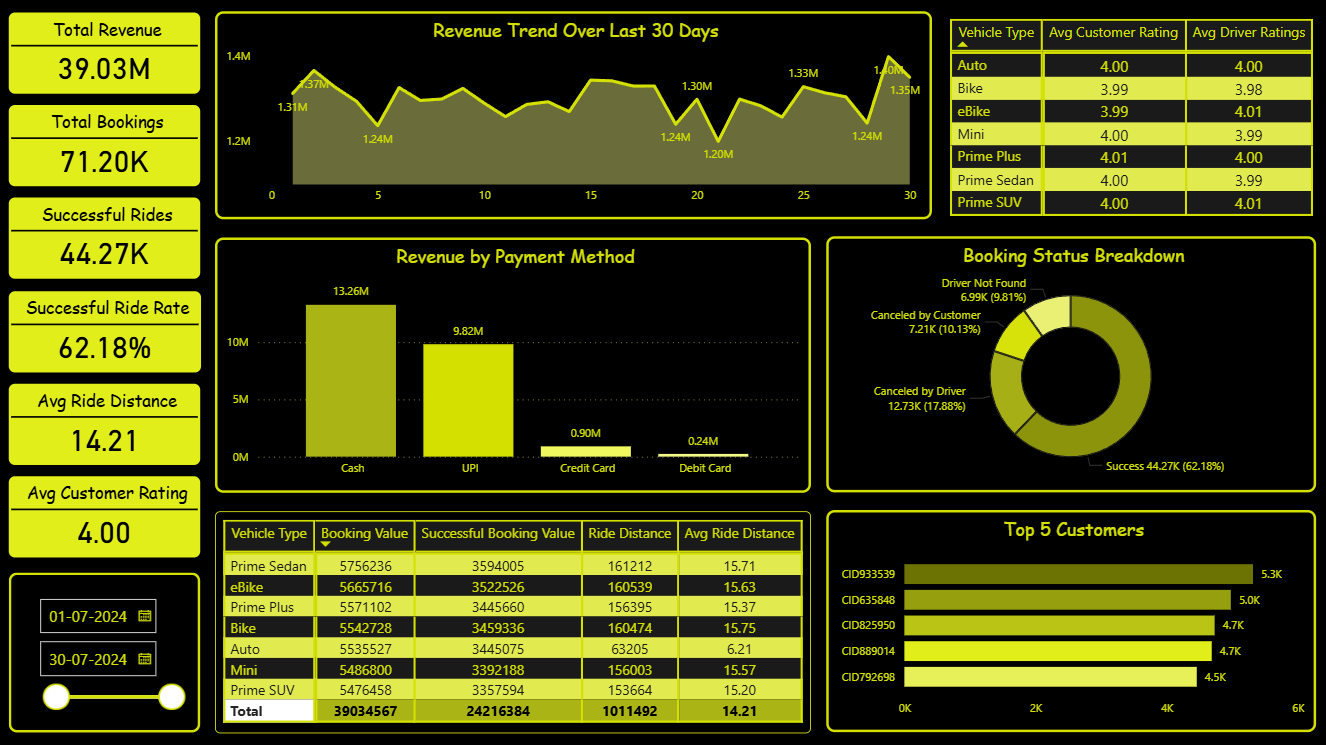

The page's visual inventory and layout, read from the dashboard file:
{"tool":"powerbi","page":{"name":"Ride Performance Overview","canvas":[1280,720],"ordinal":0},"visuals":[{"type":"donutChart","title":"Booking Status Breakdown","fields":{"Category":["ride_data.Booking_Status"],"Y":["CountNonNull(ride_data.Booking_ID)"]},"box":[797.5,228,472.9,247.3],"z":0},{"type":"lineChart","title":"Revenue Trend Over Last 30 Days","fields":{"Category":["ride_data.Date.Variation.Date Hierarchy.Day"],"Y":["Sum(ride_data.Booking_Value)"]},"box":[207.9,11.4,692.1,200.8],"z":1000},{"type":"clusteredColumnChart","title":"Revenue by Payment Method","fields":{"Y":["Sum(ride_data.Booking_Value)"],"Category":["ride_data.Payment_Method"]},"box":[207.5,229.2,575.5,246.1],"z":2000},{"type":"card","title":"Total Bookings","fields":{"Values":["CountNonNull(ride_data.Booking_ID)"]},"box":[8.8,101.3,185,78.8],"z":3000},{"type":"card","title":"Total Revenue","fields":{"Values":["Sum(ride_data.Booking_Value)"]},"box":[8.8,12.5,185,78.8],"z":4000},{"type":"card","title":"Avg Ride Distance","fields":{"Values":["Avg(ride_data.Ride_Distance)"]},"box":[8.8,370.1,185,78.8],"z":5000},{"type":"card","title":"Avg Customer Rating","fields":{"Values":["Avg(ride_data.Customer_Rating)"]},"box":[8.8,460.1,185,78.8],"z":6000},{"type":"card","title":"Successful Ride Rate","fields":{"Values":["ride_data.Successful Ride Rate"]},"box":[8.4,281.1,185.8,78.4],"z":7000},{"type":"pivotTable","fields":{"Rows":["ride_data.Vehicle_Type"],"Values":["Sum(ride_data.Booking_Value)","ride_data.Successful Booking Value","Sum(ride_data.Ride_Distance)","Avg(ride_data.Ride_Distance)"]},"box":[207.5,493.4,575.5,214.7],"z":8000},{"type":"slicer","fields":{"Values":["ride_data.Date"]},"box":[8.4,552.5,184.6,154.4],"z":9000},{"type":"pivotTable","fields":{"Rows":["ride_data.Vehicle_Type"],"Values":["Avg(ride_data.Customer_Rating)","Avg(ride_data.Driver_Ratings)"]},"box":[912.1,13.3,364.3,212.3],"z":10000},{"type":"clusteredBarChart","title":"Top 5 Customers","fields":{"Category":["ride_data.Customer_ID"],"Y":["Sum(ride_data.Booking_Value)"]},"box":[797.5,492.2,472.9,214.7],"z":11000},{"type":"card","title":"Successful Rides","fields":{"Values":["ride_data.Successful Rides"]},"box":[8.8,190,185,78.8],"z":12000}]}

Visuals, with their boxes in screenshot pixels (x1, y1, x2, y2), scaled from the page's 1280x720 canvas onto the 1326x745 screenshot:
"Booking Status Breakdown" donutChart: select_region(826, 236, 1316, 492)
"Revenue Trend Over Last 30 Days" lineChart: select_region(215, 12, 932, 220)
"Revenue by Payment Method" clusteredColumnChart: select_region(215, 237, 811, 492)
"Total Bookings" card: select_region(9, 105, 201, 186)
"Total Revenue" card: select_region(9, 13, 201, 94)
"Avg Ride Distance" card: select_region(9, 383, 201, 464)
"Avg Customer Rating" card: select_region(9, 476, 201, 558)
"Successful Ride Rate" card: select_region(9, 291, 201, 372)
pivotTable - ride_data.Vehicle_Type x Sum(ride_data.Booking_Value): select_region(215, 511, 811, 733)
slicer - ride_data.Date: select_region(9, 572, 200, 731)
pivotTable - ride_data.Vehicle_Type x Avg(ride_data.Customer_Rating): select_region(945, 14, 1322, 233)
"Top 5 Customers" clusteredBarChart: select_region(826, 509, 1316, 731)
"Successful Rides" card: select_region(9, 197, 201, 278)
